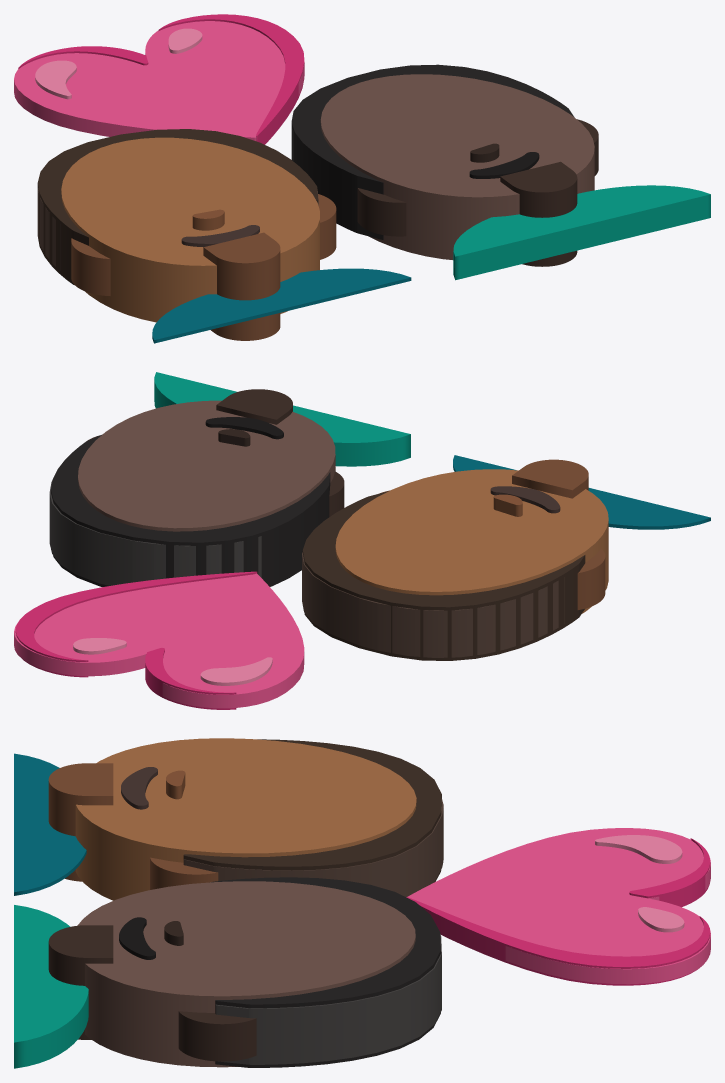
Rendered from emoji_u1f468_1f3fe_200d_2764_200d_1f468_1f3ff.glb.
3 views of the same model, one above another, from view 1: azimuth 30°, elevation 25°; view 2: azimuth 150°, elevation 25°; view 3: azimuth 270°, elevation 25° (orthographic). The views are drawn at different scales.
Parts seen in each view (by area): view 1: emoji_u1f468_1f3fe_200d_2764_200d_1f468_1f3ff; view 2: emoji_u1f468_1f3fe_200d_2764_200d_1f468_1f3ff; view 3: emoji_u1f468_1f3fe_200d_2764_200d_1f468_1f3ff.
Part boxes in pixels (x1=…): emoji_u1f468_1f3fe_200d_2764_200d_1f468_1f3ff: x1=14, y1=14, x2=710, y2=343; emoji_u1f468_1f3fe_200d_2764_200d_1f468_1f3ff: x1=14, y1=372, x2=710, y2=709; emoji_u1f468_1f3fe_200d_2764_200d_1f468_1f3ff: x1=14, y1=738, x2=710, y2=1068.
Size of the model in its own units: 0.0345 by 0.005 by 0.0338.
